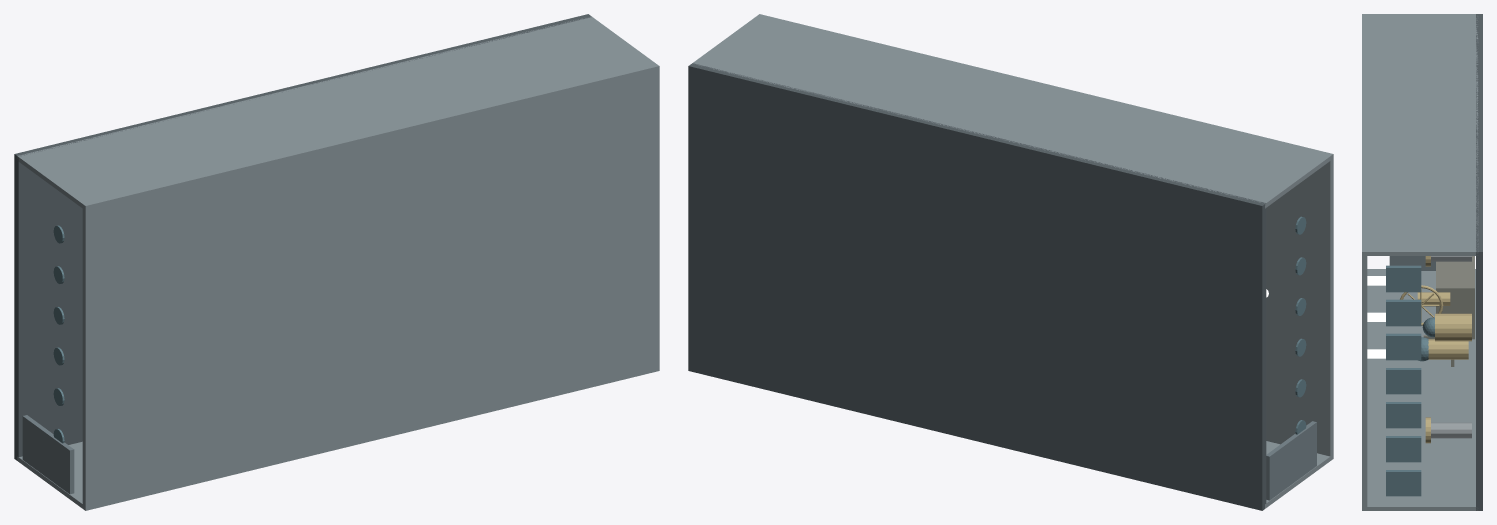
Rendered from Enterprise_CV6_1942_Bridge_Interior.glb.
3 views of the same model, side by side, from view 1: azimuth 30°, elevation 25°; view 2: azimuth 150°, elevation 25°; view 3: azimuth 270°, elevation 25° (orthographic). The views are drawn at different scales.
Visible parts, largest first — view 1: Bridge_Ceiling, BridgeSide_1, Bridge_Floor, BridgeWatertightDoor, BridgeSide_-1; view 2: Bridge_Floor, BridgeSide_1, Bridge_Ceiling, BridgeWatertightDoor; view 3: BridgeSide_1, BridgeSide_-1, Bridge_Floor, Bridge_Ceiling, ChartTable, CompassBinnacle, BridgeWindow_4, BridgeWindow_5, BridgeWindow_6, BridgeWindow_0, BridgeWindow_1, BridgeWindow_2 (+13 smaller).
Part boxes in pixels (x1=…): Bridge_Ceiling: x1=82, y1=64, x2=659, y2=510; BridgeSide_1: x1=17, y1=16, x2=656, y2=209; Bridge_Floor: x1=14, y1=14, x2=591, y2=460; BridgeWatertightDoor: x1=22, y1=415, x2=74, y2=494; BridgeSide_-1: x1=17, y1=441, x2=83, y2=508; Bridge_Floor: x1=688, y1=63, x2=1266, y2=510; BridgeSide_1: x1=693, y1=16, x2=1330, y2=208; Bridge_Ceiling: x1=757, y1=14, x2=1333, y2=460; BridgeWatertightDoor: x1=1266, y1=421, x2=1316, y2=500; BridgeSide_1: x1=1363, y1=14, x2=1478, y2=255; BridgeSide_-1: x1=1367, y1=269, x2=1477, y2=510; Bridge_Floor: x1=1476, y1=14, x2=1482, y2=510; Bridge_Ceiling: x1=1362, y1=14, x2=1367, y2=510; ChartTable: x1=1436, y1=256, x2=1474, y2=339; CompassBinnacle: x1=1435, y1=313, x2=1471, y2=341; BridgeWindow_4: x1=1386, y1=333, x2=1421, y2=360; BridgeWindow_5: x1=1386, y1=299, x2=1421, y2=326; BridgeWindow_6: x1=1386, y1=265, x2=1421, y2=292; BridgeWindow_0: x1=1386, y1=470, x2=1421, y2=496; BridgeWindow_1: x1=1386, y1=436, x2=1421, y2=462; BridgeWindow_2: x1=1386, y1=402, x2=1421, y2=428.
Bounding box in the file's own units: 13.04 × 6.6 × 2.79.
